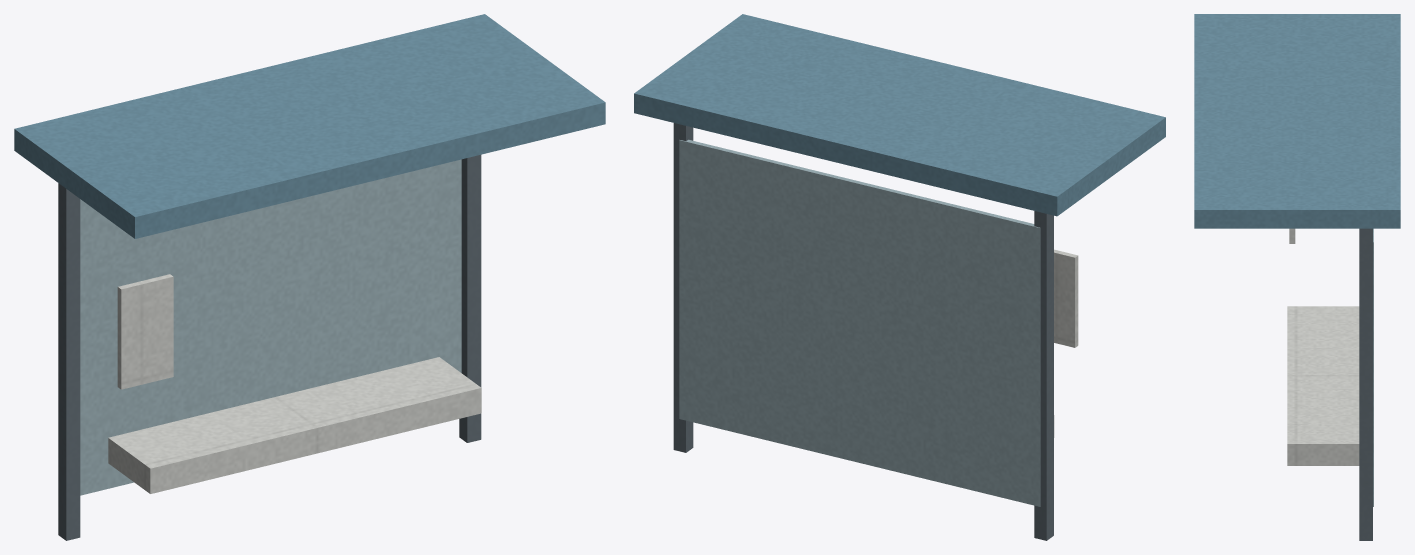
The model's file is city-bus-stop.glb.
3 renders of one model, left to right at view 1: azimuth 30°, elevation 25°; view 2: azimuth 150°, elevation 25°; view 3: azimuth 270°, elevation 25°, orthographic. The views are drawn at different scales.
Size of the model in its own units: 2.7 by 2.2 by 1.2.
4 materials, 4 textured.
